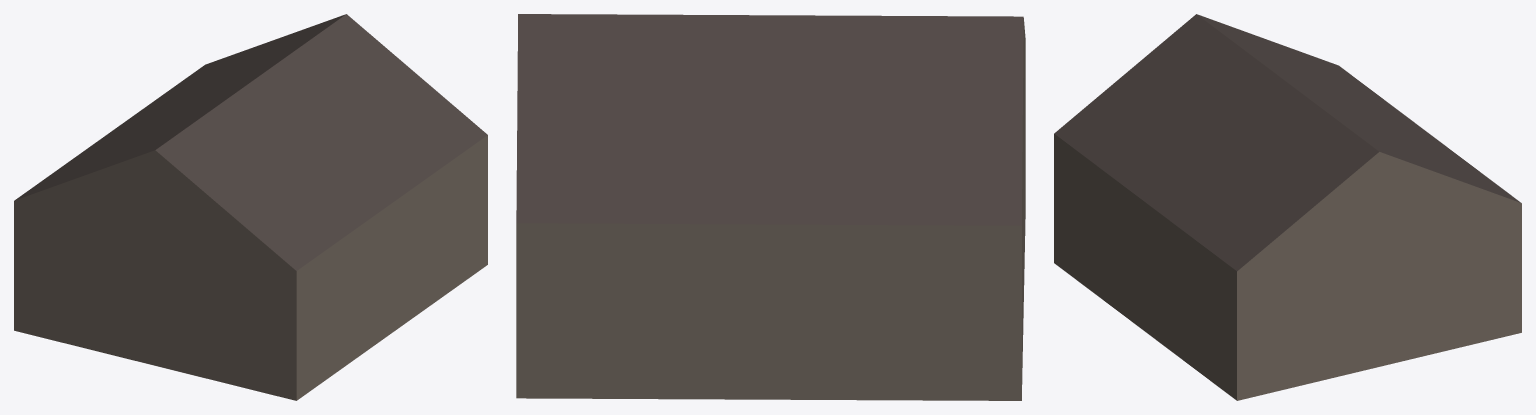
3 renders of one model, left to right at view 1: azimuth 30°, elevation 25°; view 2: azimuth 150°, elevation 25°; view 3: azimuth 270°, elevation 25°, orthographic. The views are drawn at different scales.
Visible parts, largest first — view 1: HP-w859088510; view 2: HP-w859088510; view 3: HP-w859088510.
Part boxes in pixels (<box>): HP-w859088510: <box>14,14,487,400</box>; HP-w859088510: <box>516,14,1025,400</box>; HP-w859088510: <box>1054,14,1521,400</box>.
Size of the model in its own units: 20.46 by 9.97 by 19.64.
